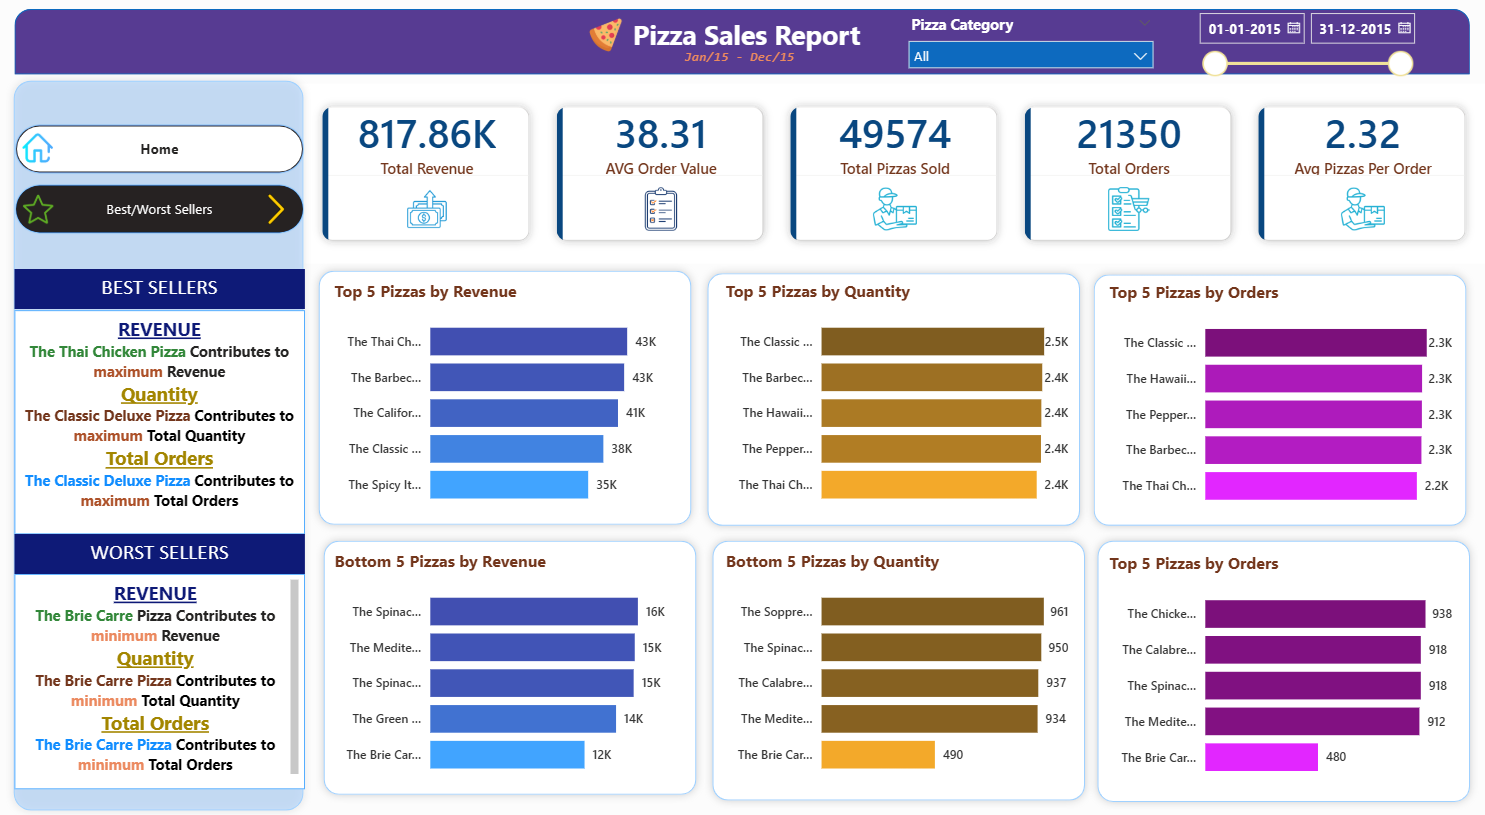

The page's visual inventory and layout, read from the dashboard file:
{"tool":"powerbi","page":{"name":"Best/Worst Sellers","canvas":[1490,820],"ordinal":1},"visuals":[{"type":"cardVisual","fields":{"Data":["pizza_sales.Total Revenue","pizza_sales.AVG Order Value","pizza_sales.Total Pizzas Sold","pizza_sales.Total Orders","pizza_sales.Avg Pizzas Per Order"]},"box":[297.1,80.6,1202.9,190],"z":0},{"type":"shape","box":[16.9,10,1455.4,65.4],"z":1000},{"type":"textbox","box":[620,12.3,258.9,46.3],"z":2000},{"type":"textbox","box":[682.7,42.2,133.5,31.3],"z":3000},{"type":"image","box":[585.9,19.1,45,34.1],"z":4000},{"type":"shape","box":[314.3,264.3,388.6,270],"z":5000},{"type":"shape","box":[702.9,265.7,388.6,268.6],"z":6000},{"type":"shape","box":[1088.6,267.1,388.6,267.1],"z":7000},{"type":"shape","box":[8.6,74.3,305.7,745.7],"z":8000},{"type":"textbox","box":[17.5,270,290,40],"z":9000},{"type":"textbox","box":[17.5,311.2,290,223.8],"z":10000},{"type":"textbox","box":[17.5,535,290,40],"z":11000},{"type":"textbox","box":[17.5,575,290,215],"z":12000},{"type":"slicer","fields":{"Values":["pizza_sales.pizza_category"]},"box":[901.2,10,265,63.8],"z":13000},{"type":"slicer","fields":{"Values":["pizza_sales.order_date"]},"box":[1190,3.8,235,76.2],"z":14000},{"type":"shape","box":[318.6,534.3,388.6,270],"z":15000},{"type":"shape","box":[707.1,534.3,388.6,275.7],"z":16000},{"type":"shape","box":[1092.9,534.3,388.6,277.1],"z":17000},{"type":"barChart","title":"Top 5 Pizzas by Revenue","fields":{"Category":["pizza_sales.pizza_name"],"Y":["pizza_sales.Total Revenue"]},"box":[332.9,280,352.9,240],"z":18000},{"type":"barChart","title":"Bottom 5 Pizzas by Revenue","fields":{"Category":["pizza_sales.pizza_name"],"Y":["pizza_sales.Total Revenue"]},"box":[332.9,550,352.9,240],"z":19000},{"type":"barChart","title":"Top 5 Pizzas by Quantity","fields":{"Category":["pizza_sales.pizza_name"],"Y":["pizza_sales.Total Pizzas Sold"]},"box":[724.3,280,352.9,240],"z":20000},{"type":"barChart","title":"Bottom 5 Pizzas by Quantity","fields":{"Category":["pizza_sales.pizza_name"],"Y":["pizza_sales.Total Pizzas Sold"]},"box":[724.3,550,352.9,240],"z":21000},{"type":"barChart","title":"Top 5 Pizzas by Orders","fields":{"Category":["pizza_sales.pizza_name"],"Y":["pizza_sales.Total Orders"]},"box":[1107.1,281.4,352.9,240],"z":22000},{"type":"barChart","title":"Top 5 Pizzas by Orders","fields":{"Category":["pizza_sales.pizza_name"],"Y":["pizza_sales.Total Orders"]},"box":[1107.1,552.9,352.9,240],"z":23000},{"type":"pageNavigator","box":[17.5,185,290,50],"z":24000},{"type":"pageNavigator","box":[17.5,125,290,50],"z":25000},{"type":"image","box":[261.2,195,36.2,30],"z":26000},{"type":"image","box":[17.5,133.8,46.2,30],"z":28000},{"type":"image","box":[18.8,195,45,30],"z":28500}]}

Visuals, with their boxes in screenshot pixels (x1, y1, x2, y2), scaled from the page's 1490x820 canvas onto the 1485x815 screenshot:
cardVisual - pizza_sales.Total Revenue x pizza_sales.AVG Order Value: detection(296, 80, 1484, 269)
shape: detection(17, 10, 1467, 75)
textbox: detection(618, 12, 876, 58)
textbox: detection(680, 42, 813, 73)
image: detection(584, 19, 629, 53)
shape: detection(313, 263, 701, 531)
shape: detection(701, 264, 1088, 531)
shape: detection(1085, 265, 1472, 531)
shape: detection(9, 74, 313, 814)
textbox: detection(17, 268, 306, 308)
textbox: detection(17, 309, 306, 532)
textbox: detection(17, 532, 306, 571)
textbox: detection(17, 571, 306, 785)
slicer - pizza_sales.pizza_category: detection(898, 10, 1162, 73)
slicer - pizza_sales.order_date: detection(1186, 4, 1420, 80)
shape: detection(318, 531, 705, 799)
shape: detection(705, 531, 1092, 805)
shape: detection(1089, 531, 1477, 806)
"Top 5 Pizzas by Revenue" barChart: detection(332, 278, 683, 517)
"Bottom 5 Pizzas by Revenue" barChart: detection(332, 547, 683, 785)
"Top 5 Pizzas by Quantity" barChart: detection(722, 278, 1074, 517)
"Bottom 5 Pizzas by Quantity" barChart: detection(722, 547, 1074, 785)
"Top 5 Pizzas by Orders" barChart: detection(1103, 280, 1455, 518)
"Top 5 Pizzas by Orders" barChart: detection(1103, 550, 1455, 788)
pageNavigator: detection(17, 184, 306, 234)
pageNavigator: detection(17, 124, 306, 174)
image: detection(260, 194, 296, 224)
image: detection(17, 133, 63, 163)
image: detection(19, 194, 64, 224)
